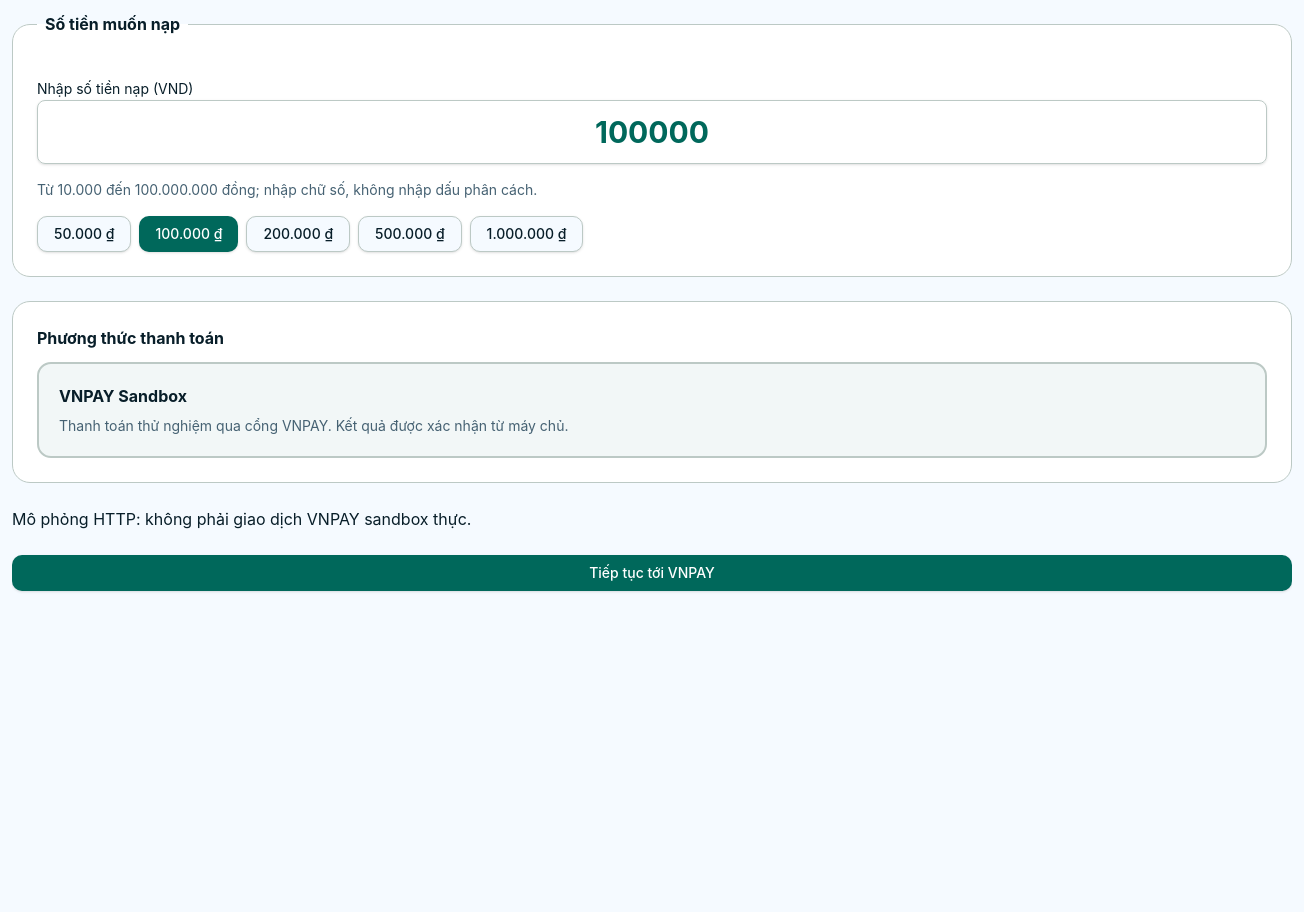
Scenario: Topup create UI (MSW contract only) › keeps the order link and blocks another create when the redirect URL is unsafe
The image size is (1304, 912).
Click the button "Tiếp tục tới VNPAY" at (652, 573), box [12,555,1292,591]
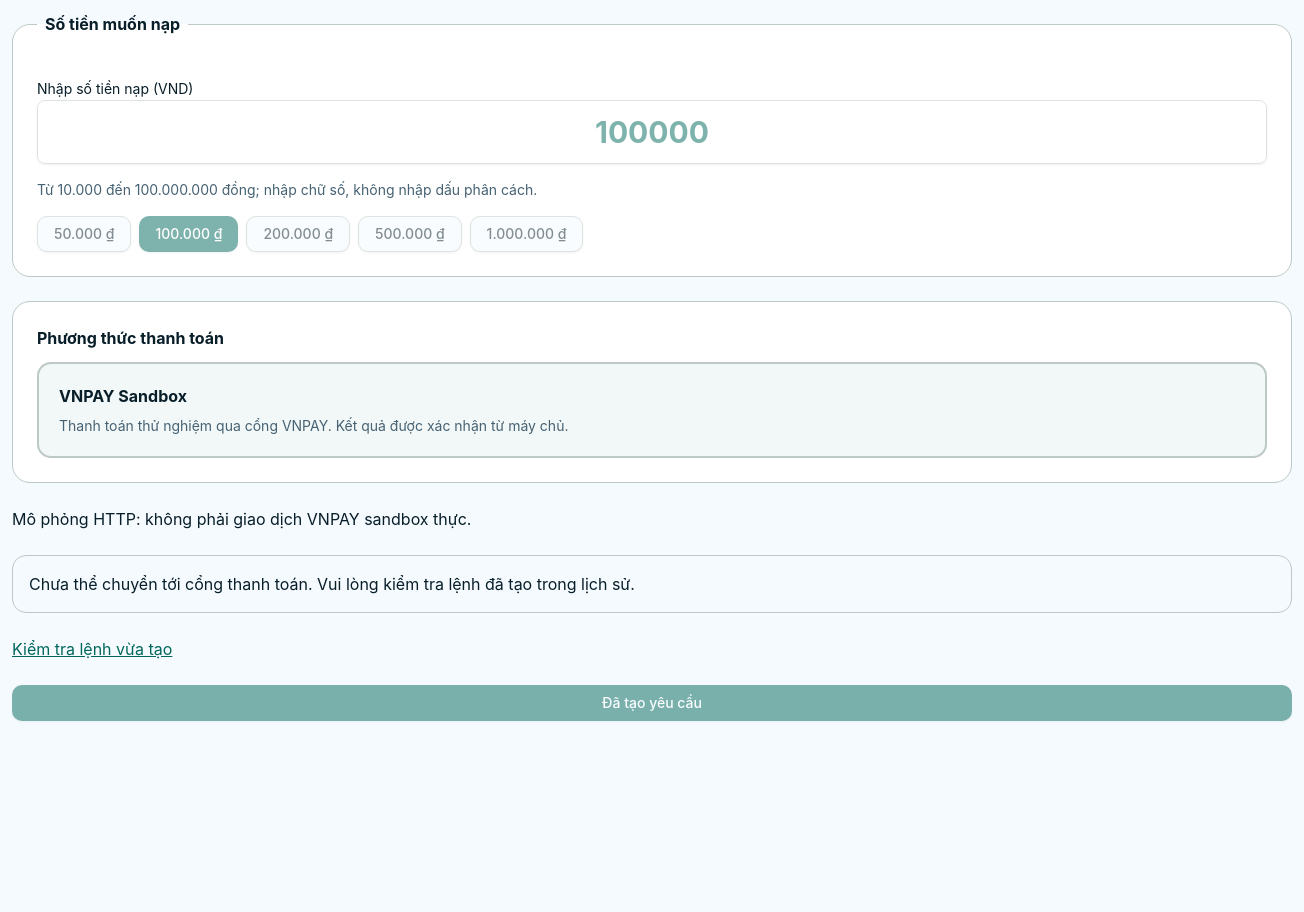
Check: the button "Đã tạo yêu cầu" is disabled, box [12,685,1292,721]
